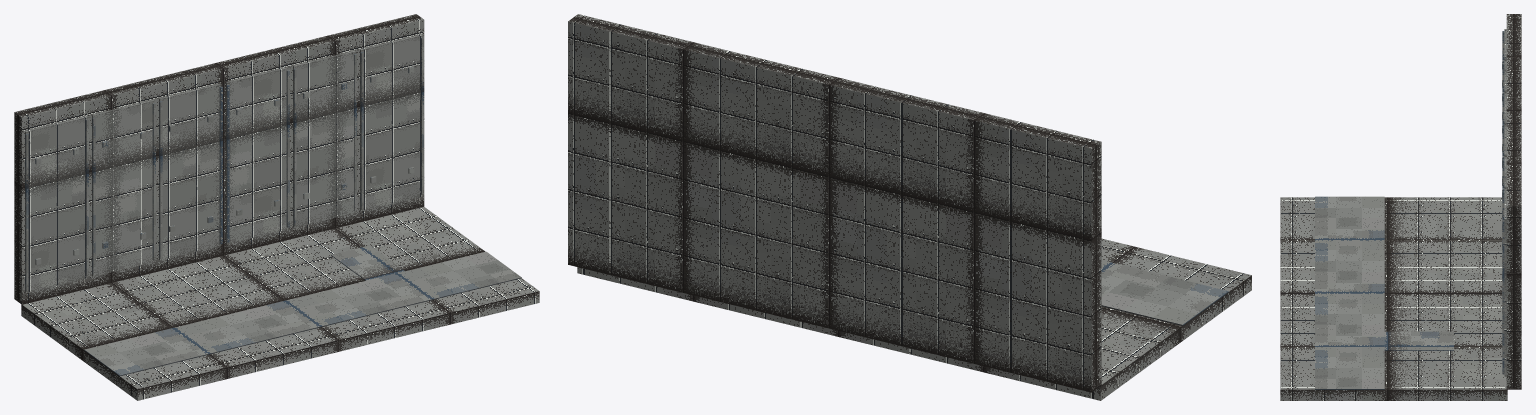
The model's file is secret_wear_traffic.glb.
3 views of the same model, side by side, from view 1: azimuth 30°, elevation 25°; view 2: azimuth 150°, elevation 25°; view 3: azimuth 270°, elevation 25° (orthographic). The views are drawn at different scales.
Parts seen in each view (by area): view 1: secret_wear_traffic; view 2: secret_wear_traffic; view 3: secret_wear_traffic.
Boxes of the visible parts, x1,y1,x2,y2 form: secret_wear_traffic: (14, 14, 539, 400); secret_wear_traffic: (568, 14, 1251, 400); secret_wear_traffic: (1280, 14, 1521, 400).
Size of the model in its own units: 7.2 by 3.4 by 3.82.
Materials: 4 (4 with a texture image).
